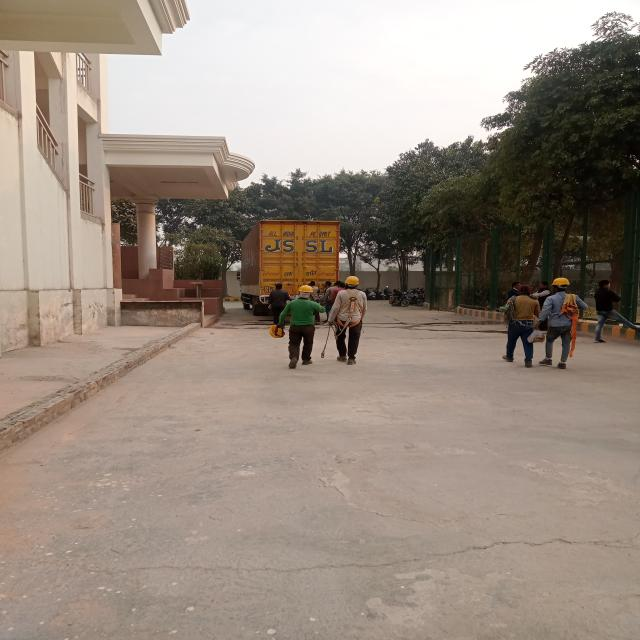no jacket: (542, 276, 580, 370), (332, 275, 365, 366), (286, 283, 318, 367)
unsafe: (500, 285, 539, 370), (591, 280, 640, 345), (267, 280, 290, 321)
